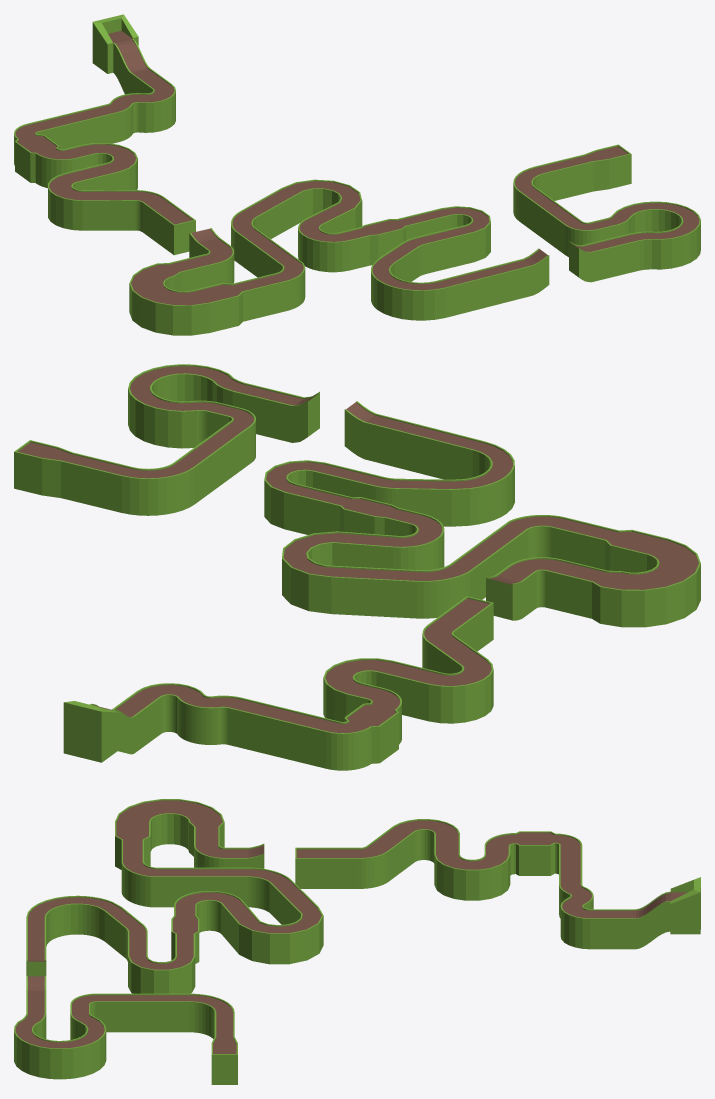
The model's file is MapRZorZ.fbx.
3 renders of one model, top to bottom at view 1: azimuth 30°, elevation 25°; view 2: azimuth 150°, elevation 25°; view 3: azimuth 270°, elevation 25°, orthographic. The views are drawn at different scales.
Parts seen in each view (by area): view 1: Plane.004; view 2: Plane.004; view 3: Plane.004.
Part boxes in pixels (left/top/right/bottom): Plane.004: left=14, top=14, right=700, bottom=335; Plane.004: left=14, top=364, right=700, bottom=770; Plane.004: left=14, top=799, right=700, bottom=1084.
Size of the model in its own units: 938 by 102 by 1066.
